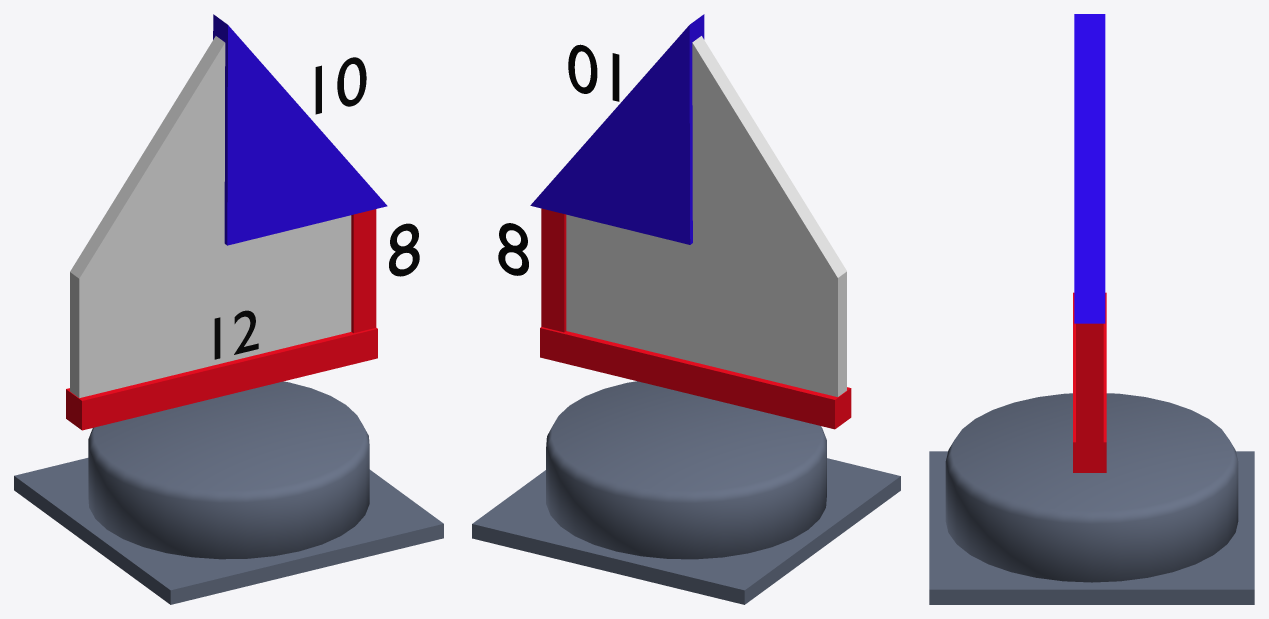
The picture shows the model from 3 angles, left to right: view 1: azimuth 30°, elevation 25°; view 2: azimuth 150°, elevation 25°; view 3: azimuth 270°, elevation 25°; orthographic projection. The views are drawn at different scales.
Parts seen in each view (by area): view 1: подставка, Cube, Cube.002, Cube.001, Cube.003, Text.002, Text, Text.001; view 2: подставка, Cube, Cube.002, Cube.001, Cube.003, Text.002, Text; view 3: подставка, Cube.002, Cube.003.
Boxes of the visible parts, <box> form: подставка: <box>14,381,443,604</box>; Cube: <box>70,215,351,397</box>; Cube.002: <box>213,14,387,245</box>; Cube.001: <box>70,36,225,278</box>; Cube.003: <box>66,209,377,430</box>; Text.002: <box>315,57,366,114</box>; Text: <box>389,223,419,276</box>; Text.001: <box>214,310,258,359</box>; подставка: <box>472,381,900,604</box>; Cube: <box>566,214,846,396</box>; Cube.002: <box>530,14,704,244</box>; Cube.001: <box>692,36,846,277</box>; Cube.003: <box>540,208,851,429</box>; Text.002: <box>568,44,619,101</box>; Text: <box>498,223,528,275</box>; подставка: <box>929,393,1254,604</box>; Cube.002: <box>1074,14,1105,323</box>; Cube.003: <box>1073,292,1106,472</box>.
Bounding box in the file's own units: 11.58 × 15.94 × 9.09.
